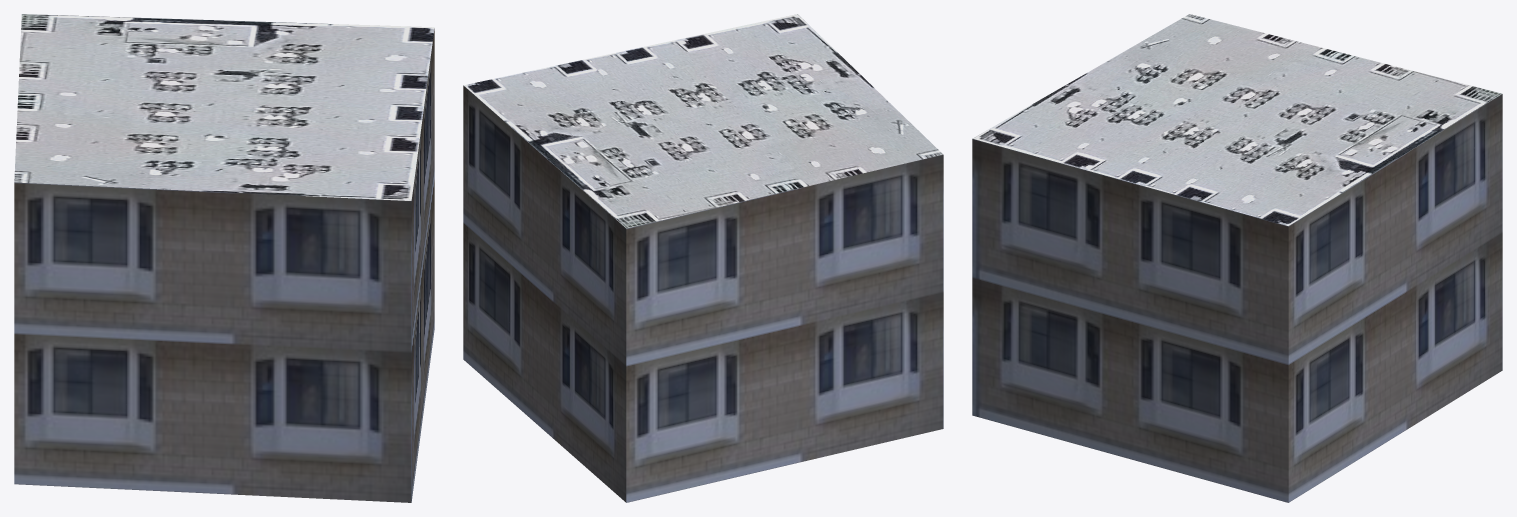
The model's file is ResTex__4392.fbx.
3 renders of one model, left to right at view 1: azimuth 30°, elevation 25°; view 2: azimuth 150°, elevation 25°; view 3: azimuth 270°, elevation 25°, orthographic. The views are drawn at different scales.
Parts seen in each view (by area): view 1: CityEngineMaterial_3_m, CityEngineMaterial_m; view 2: CityEngineMaterial_3_m, CityEngineMaterial_m; view 3: CityEngineMaterial_3_m, CityEngineMaterial_m.
Boxes of the visible parts, x1,y1,x2,y2 form: CityEngineMaterial_3_m: (14,28,434,502); CityEngineMaterial_m: (14,14,434,200); CityEngineMaterial_3_m: (463,85,943,502); CityEngineMaterial_m: (464,14,942,228); CityEngineMaterial_3_m: (972,94,1502,502); CityEngineMaterial_m: (972,14,1502,225).
Bounding box in the file's own units: 9.87 × 6 × 10.42.
Materials: 2 (2 with a texture image).
